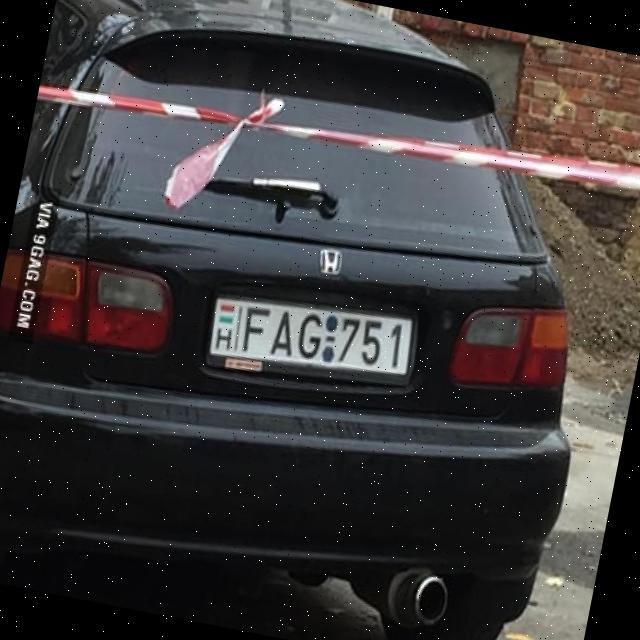licence: (198, 284, 426, 390)
